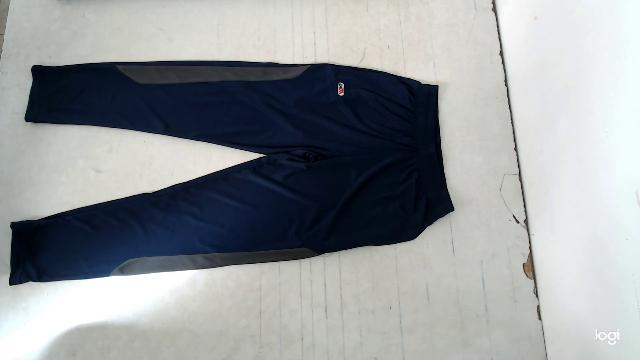new-garment: (9, 61, 454, 284)
